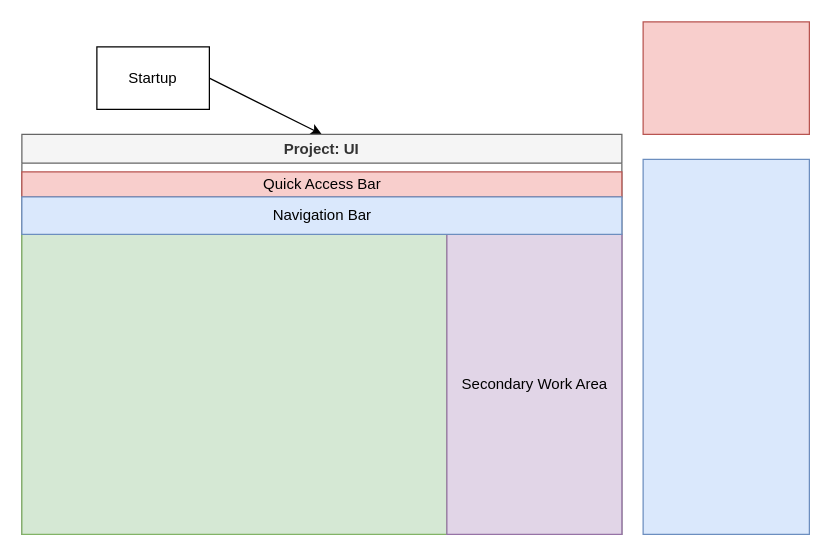
This 831x556 diagram has some shape labels left out. Here are the shapes that lost their labels. From the top down, the box of each, then its label:
(642, 21, 809, 134): Quick Access Bar: +Save +Load +Help +Exit
(642, 158, 809, 534): Navigation Bar: +Home +Map +Character
(21, 233, 447, 534): Main Work Area
